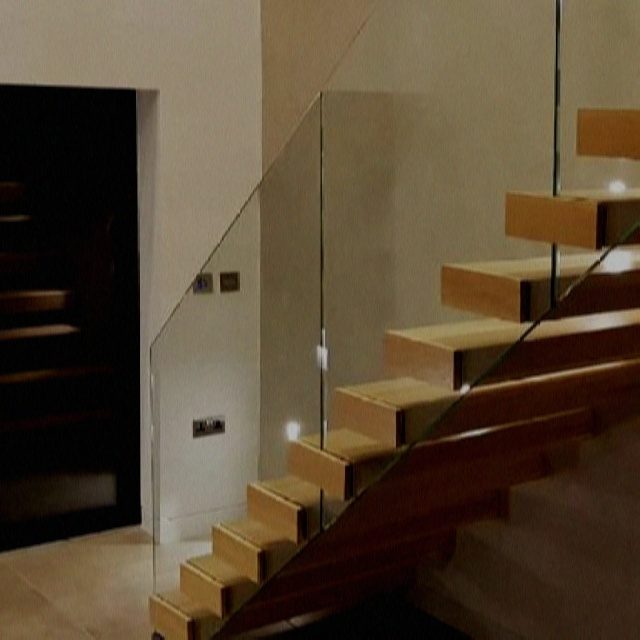stair: (132, 78, 638, 638)
